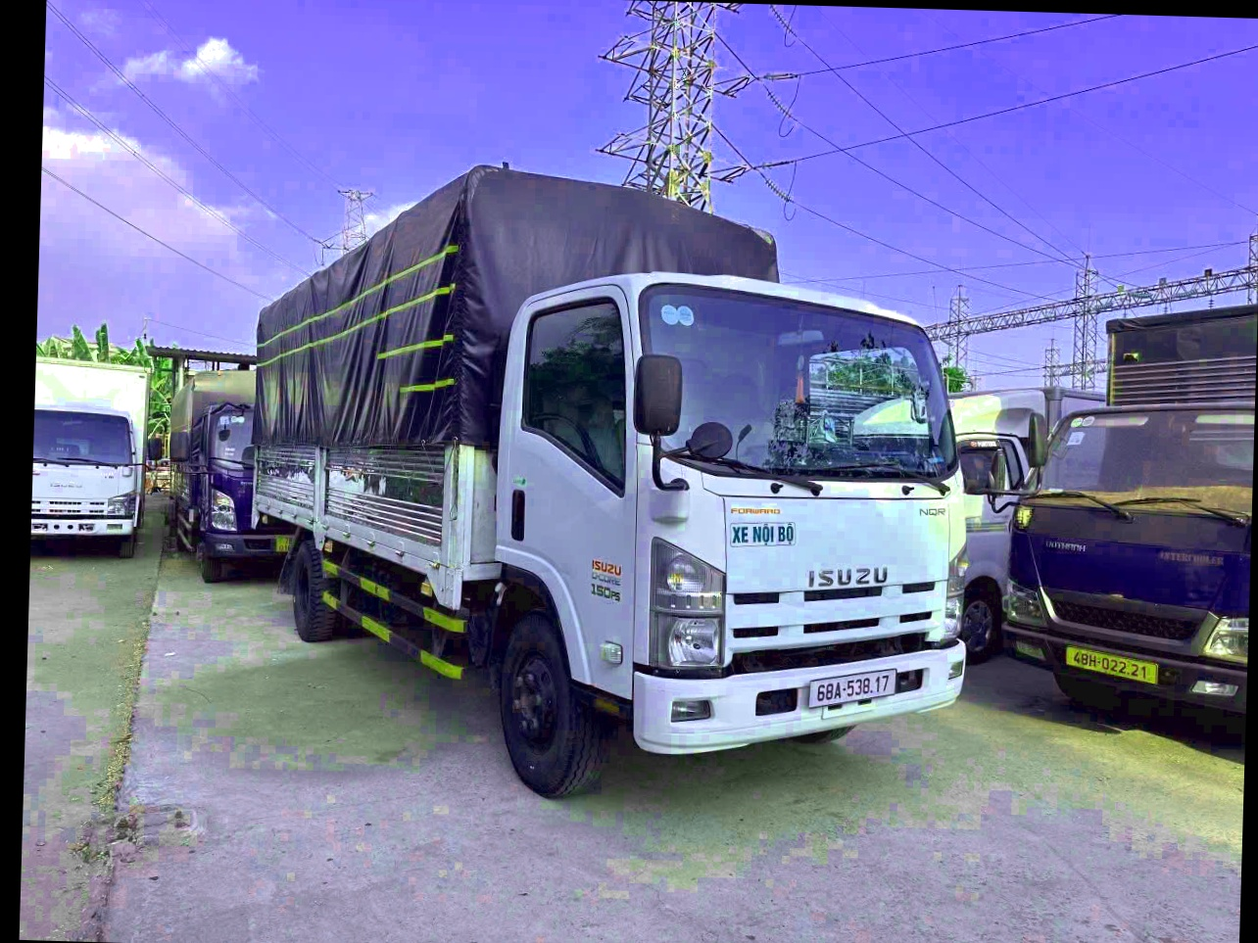Bien-so: (761, 662, 855, 713)
